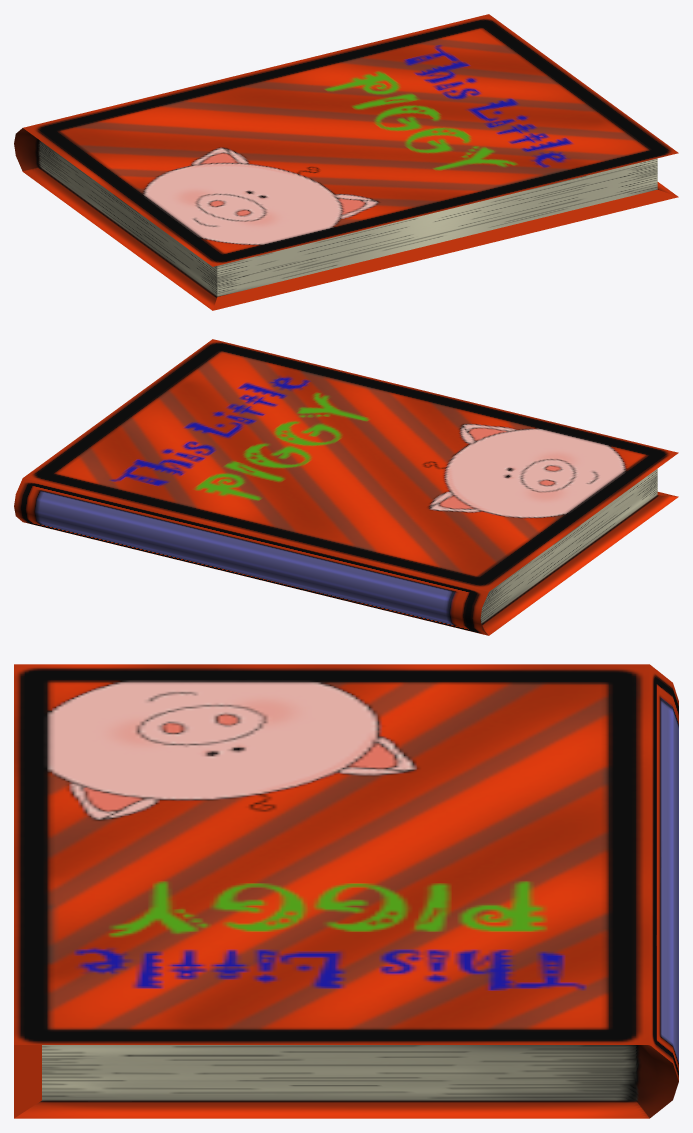
The model's file is Book4.FBX.
3 renders of one model, top to bottom at view 1: azimuth 30°, elevation 25°; view 2: azimuth 150°, elevation 25°; view 3: azimuth 270°, elevation 25°, orthographic. The views are drawn at different scales.
Visible parts, largest first — view 1: RoadKillOut; view 2: RoadKillOut; view 3: RoadKillOut.
Part boxes in pixels (<box>): RoadKillOut: <box>14,14,678,310</box>; RoadKillOut: <box>14,339,678,635</box>; RoadKillOut: <box>14,664,678,1118</box>.
Size of the model in its own units: 38.95 by 3.51 by 28.75.
Materials: 1 (1 with a texture image).
